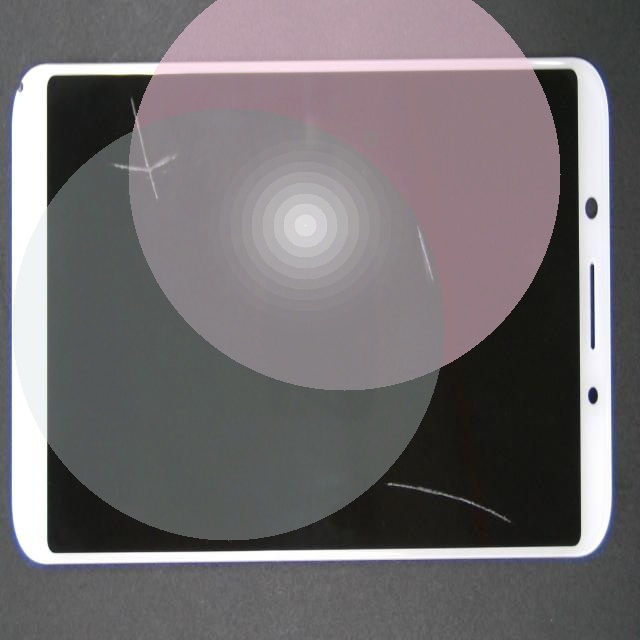scratch: (326, 280, 640, 640), (239, 141, 640, 357), (68, 85, 221, 302)
